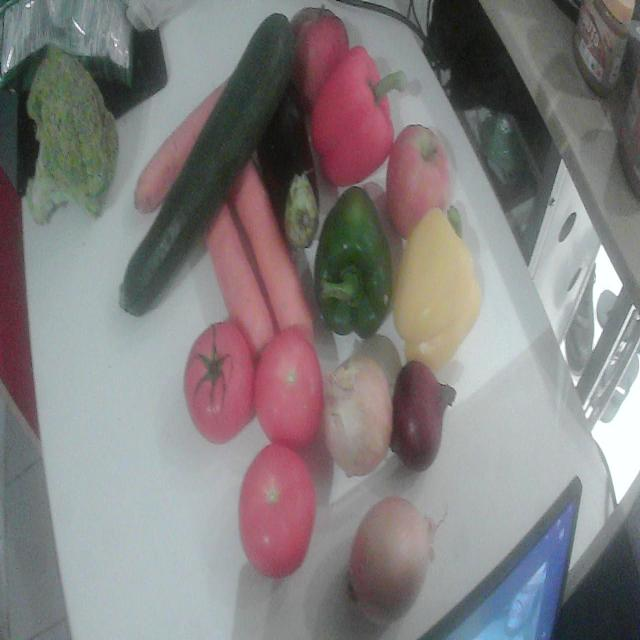Apple: (386, 125, 451, 239), (294, 11, 348, 104)
Bell Pepper: (393, 209, 481, 372), (310, 48, 404, 187), (314, 187, 394, 339)
Broccoli: (26, 46, 118, 223)
Carrot: (228, 162, 314, 341), (206, 204, 276, 353)
Courgette: (120, 13, 294, 315)
Eggplant: (256, 82, 318, 249)
Onion: (349, 499, 434, 624), (324, 356, 392, 476), (390, 361, 456, 471)
Tomato: (238, 444, 316, 579), (184, 323, 254, 443), (256, 330, 324, 446)
